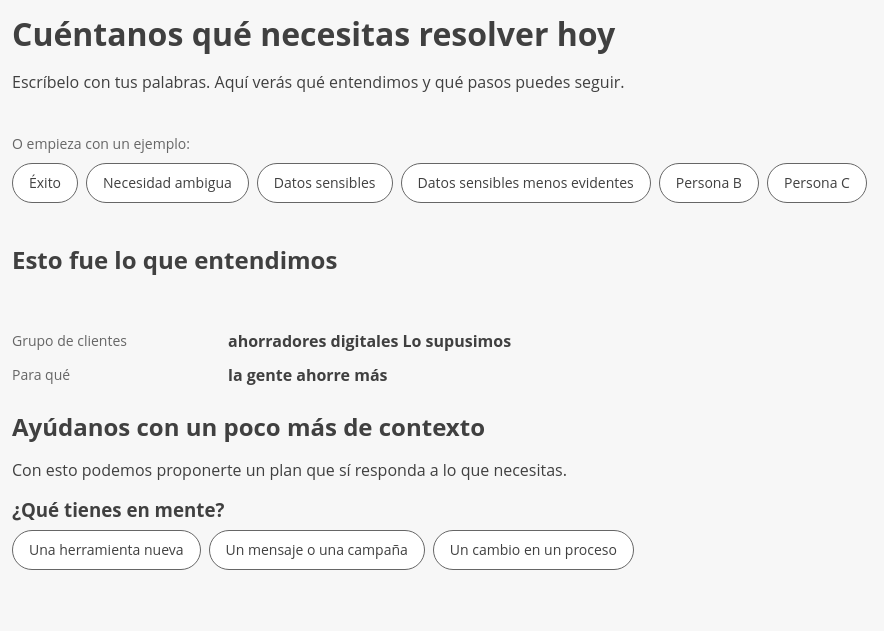
Scenario: BriefView: an ambiguous need › points at the answers still missing
Check: the heading "Esto fue lo que entendimos" is shown, box [12,243,337,276]
Click the button "Una herramienta nueva" at (106, 550), box [12,530,200,570]
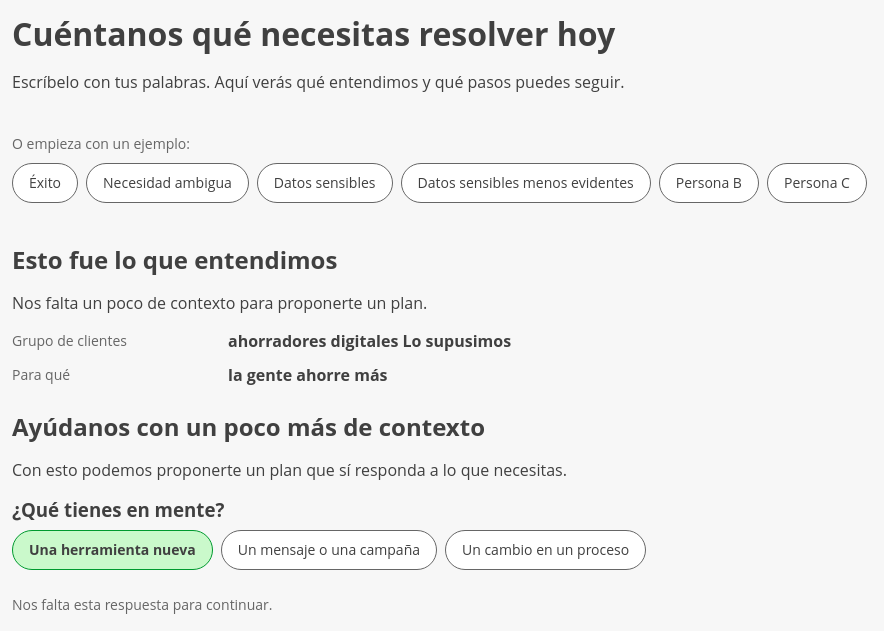
Check: the number of messages is 1, box [12,595,272,614]
Check: the message shows "Nos falta esta respuesta", box [12,595,272,614]
